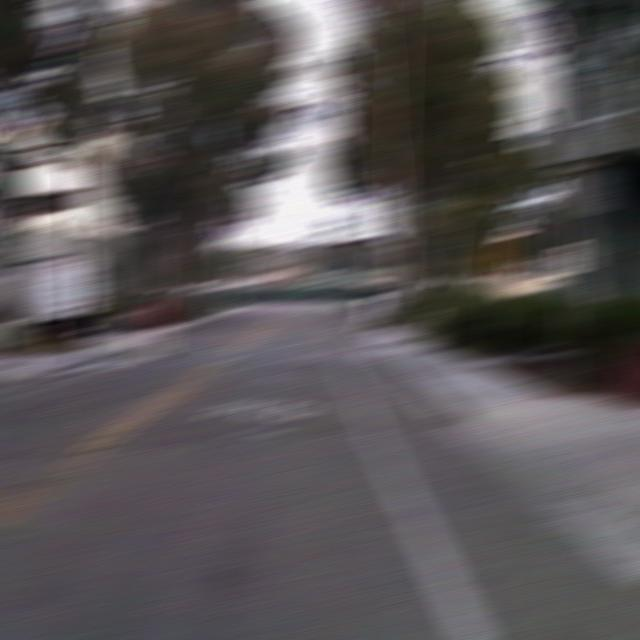pedestrianCrossing: (474, 228, 514, 280)
